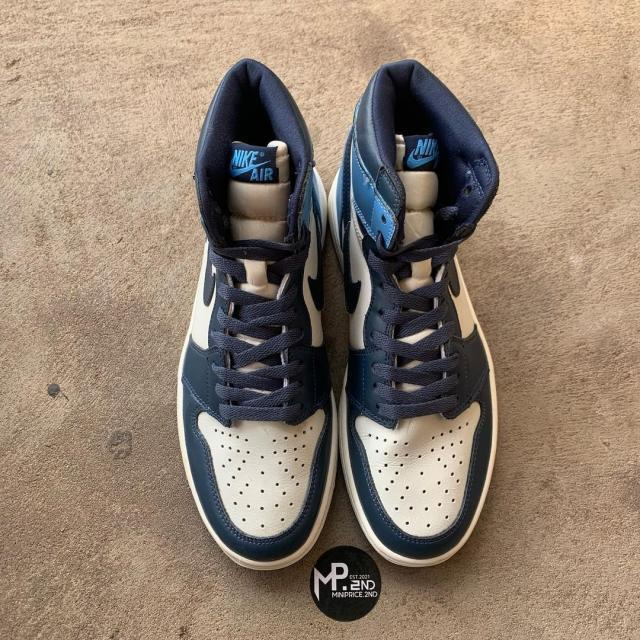nike original jordan 1: (336, 61, 506, 579), (175, 60, 338, 572)
